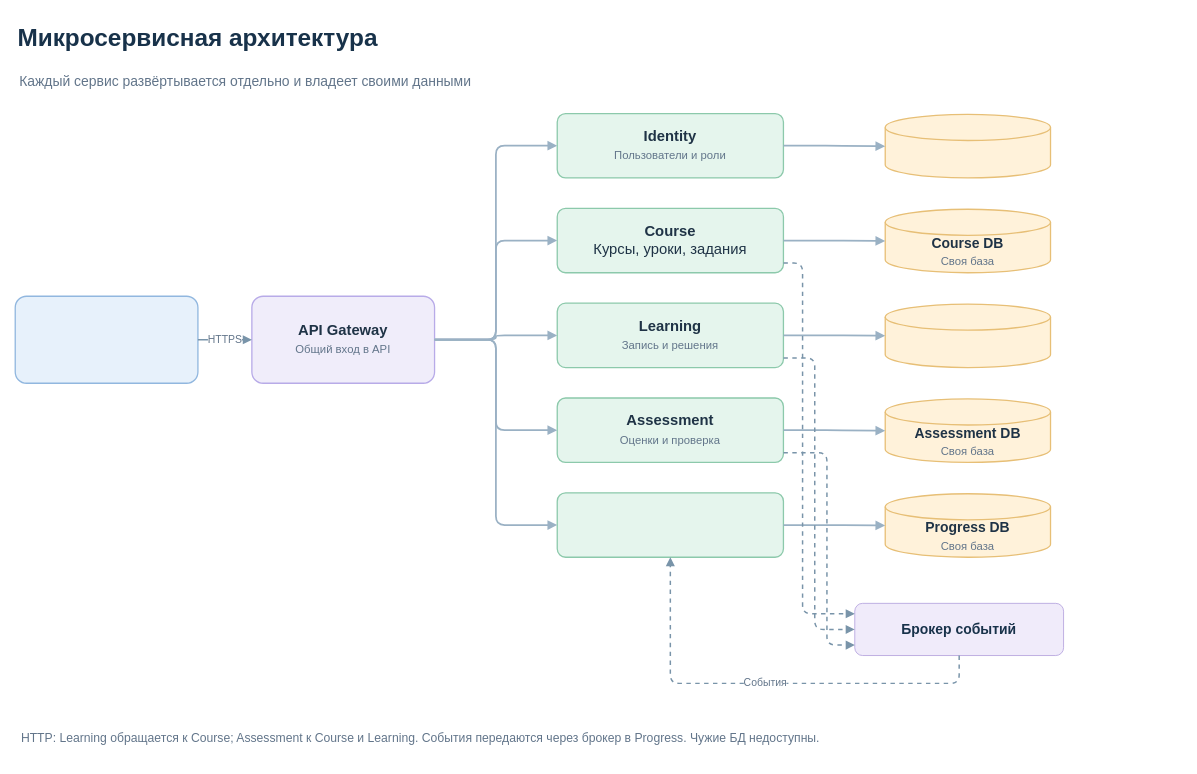
The diagram is 1197 pixels wide and 774 high, and some of its shapes have lost their labels. Each missing label, with the centre of its shape:
Identity DB Своя база: [967,145]
Learning DB Своя база: [967,335]
Progress Результаты и прогресс: [670,524]
Веб-интерфейс React: [106,339]
